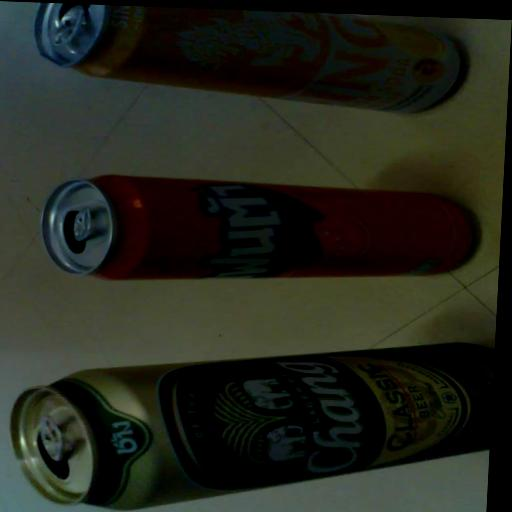canned: (0, 321, 495, 512), (17, 152, 501, 309), (13, 1, 482, 124)
